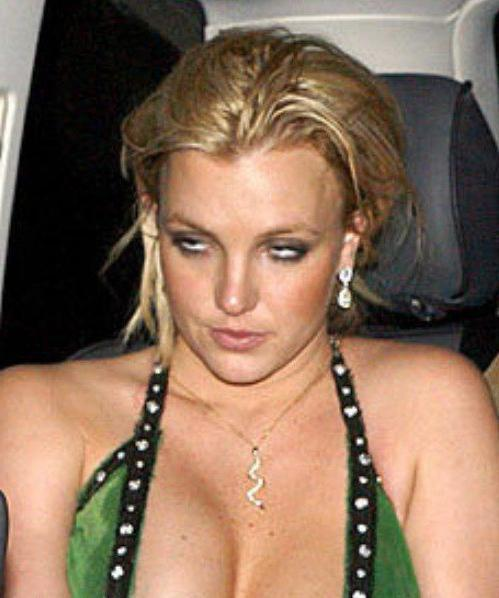Drunk: (163, 149, 328, 381)
